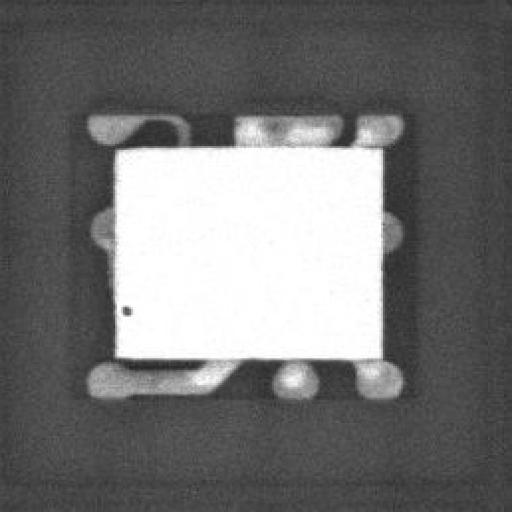DIE_INK: (110, 314, 127, 334)
